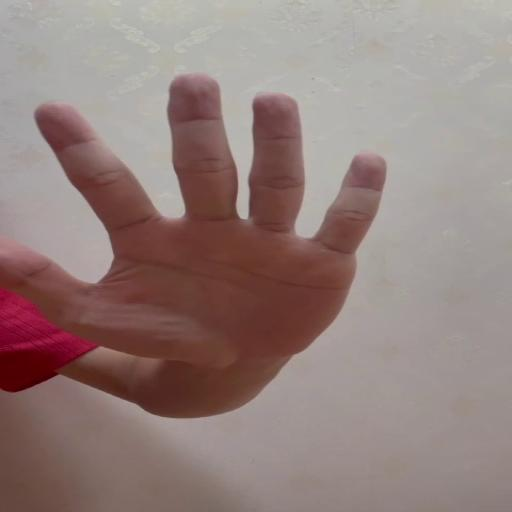open_palm: (0, 70, 388, 370)
